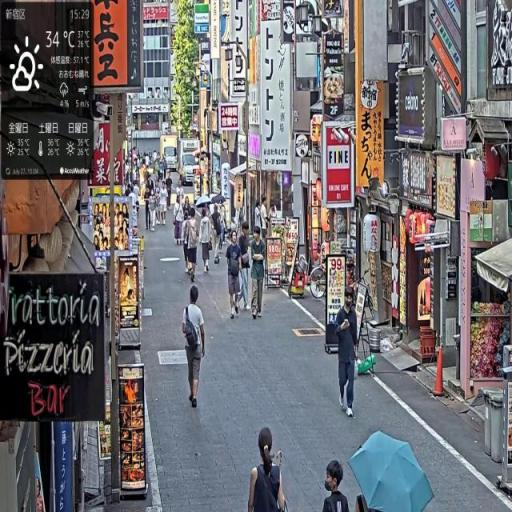person: (247, 427, 290, 512), (335, 289, 361, 421), (183, 285, 207, 408), (249, 227, 268, 320), (227, 228, 245, 321), (322, 458, 353, 512), (199, 208, 214, 275)
